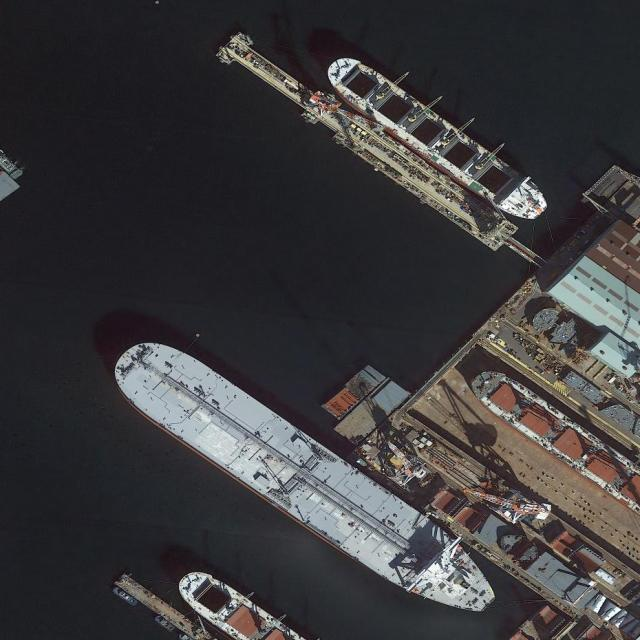Cargo: (317, 29, 566, 233)
Dock: (216, 26, 552, 279)
Oil Tanker: (98, 321, 511, 639)
